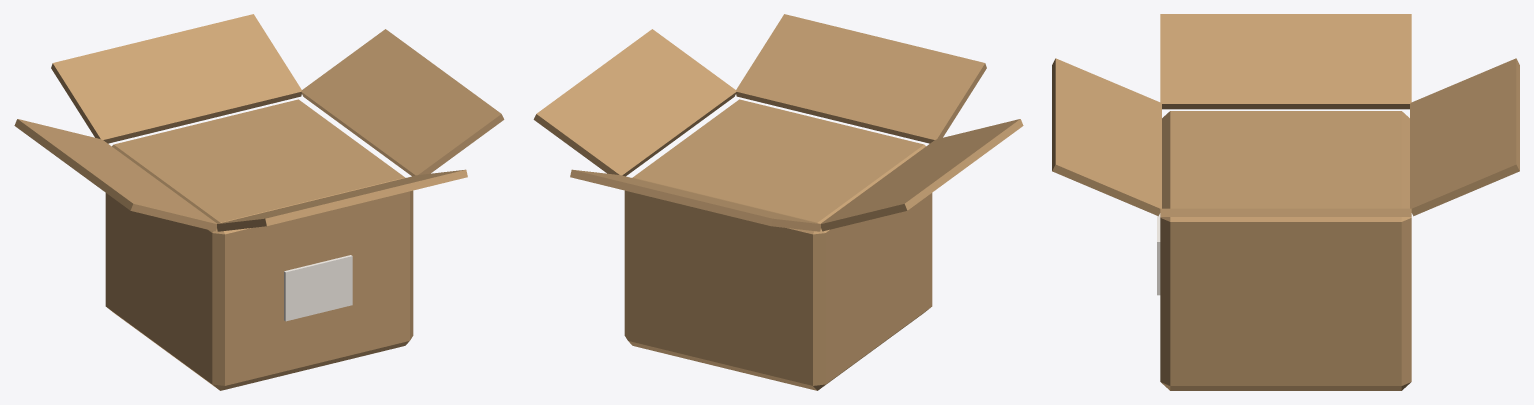
File: CatCafe_Alley_CardboardBox.glb
The picture shows the model from 3 angles, left to right: view 1: azimuth 30°, elevation 25°; view 2: azimuth 150°, elevation 25°; view 3: azimuth 270°, elevation 25°; orthographic projection. The views are drawn at different scales.
Parts seen in each view (by area): view 1: CatCafe_Alley_CardboardBox; view 2: CatCafe_Alley_CardboardBox; view 3: CatCafe_Alley_CardboardBox.
Part boxes in pixels (left/top/right/bottom): CatCafe_Alley_CardboardBox: left=14, top=14, right=504, bottom=390; CatCafe_Alley_CardboardBox: left=533, top=14, right=1023, bottom=390; CatCafe_Alley_CardboardBox: left=1052, top=14, right=1519, bottom=390.
Bounding box in the file's own units: 2.79 × 1.52 × 2.79.
Materials: 1 (1 with a texture image).
